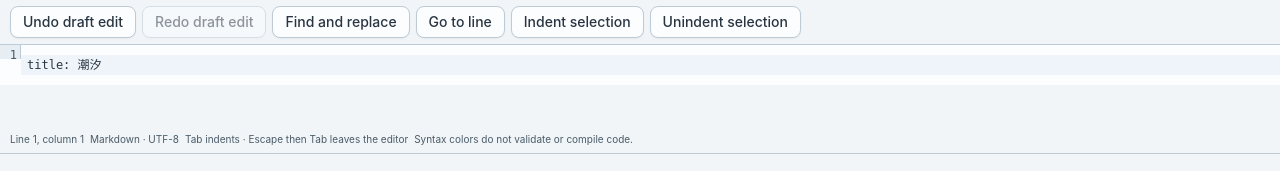
Test: reusable text editing surface › groups controlled composition transactions into one undo without mixing another buffer
Click the button "Undo draft edit". click: (73, 22)
box: left=10, top=6, right=136, bottom=38
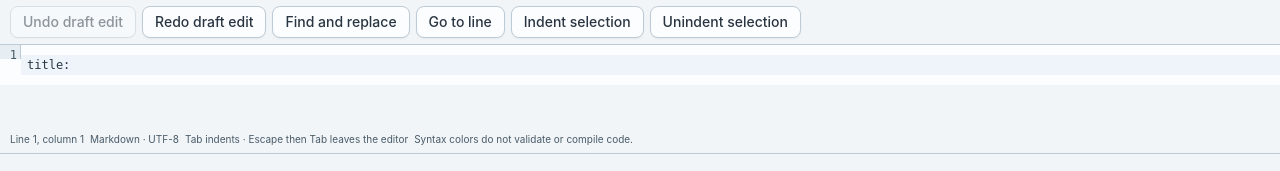
Check: the text box labelled "title:" is shown, box left=21, top=55, right=1279, bottom=75
Click the button "Redo draft edit". click: (204, 22)
box: left=142, top=6, right=266, bottom=38
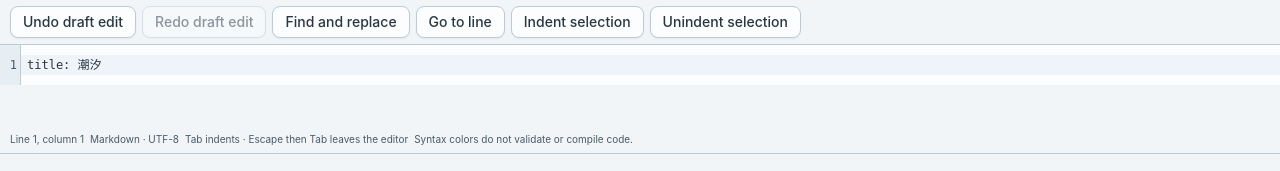
Check: the text box labelled "title: 潮汐" is shown, box left=21, top=55, right=1279, bottom=75
